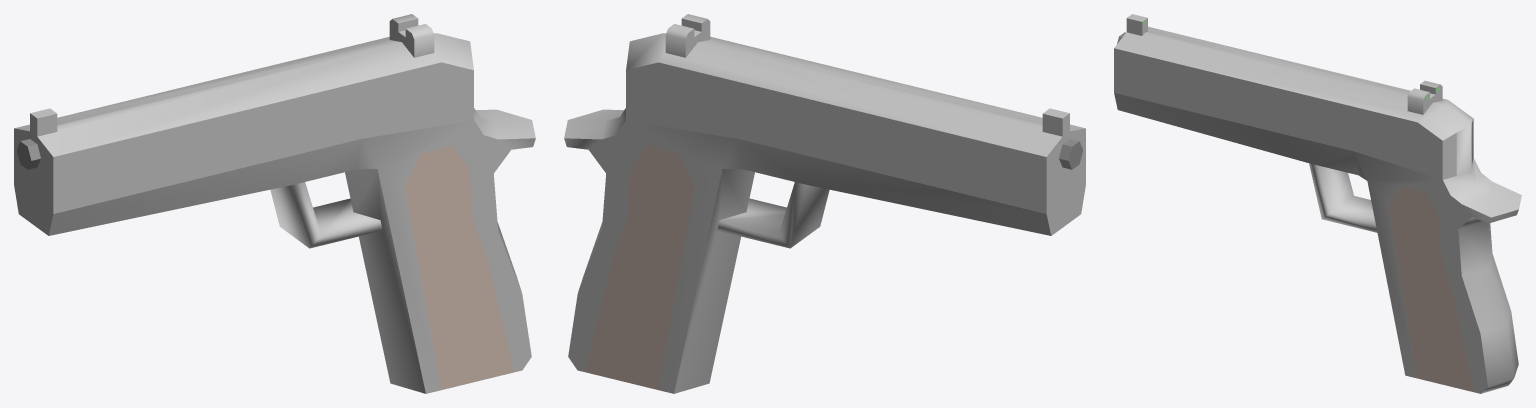
The model's file is Colt.fbx.
3 renders of one model, left to right at view 1: azimuth 30°, elevation 25°; view 2: azimuth 150°, elevation 25°; view 3: azimuth 330°, elevation 25°, orthographic. The views are drawn at different scales.
Parts seen in each view (by area): view 1: Gun, Top; view 2: Gun, Top; view 3: Gun, Top.
Part boxes in pixels (x1,y1,x2,y2): Gun: [14, 108, 535, 393]; Top: [14, 14, 473, 213]; Gun: [564, 108, 1085, 393]; Top: [626, 14, 1085, 213]; Gun: [1114, 32, 1521, 393]; Top: [1114, 14, 1473, 179].
Bounding box in the file's own units: 0.021 × 0.1571 × 0.1048.
